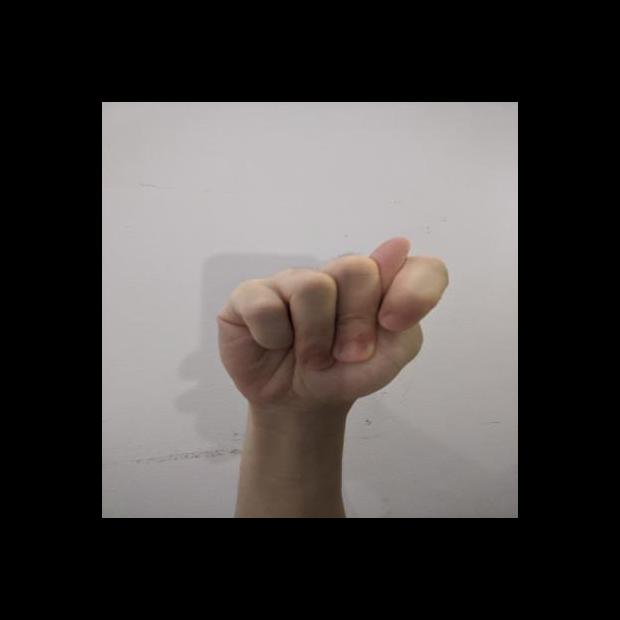S: (210, 234, 453, 417)
